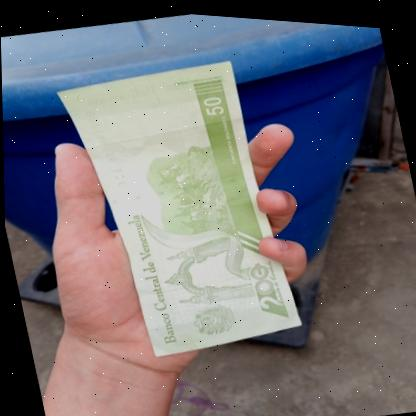fifty-back-vef: (53, 43, 304, 371)
